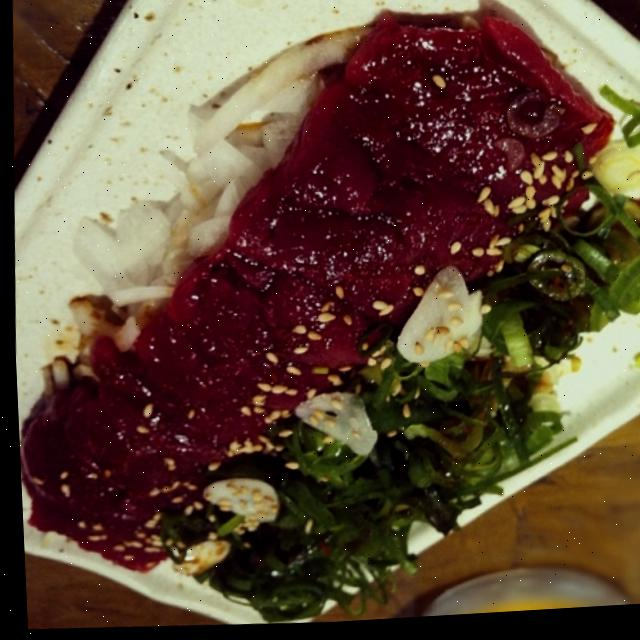刺身生食: (1, 0, 640, 631)
